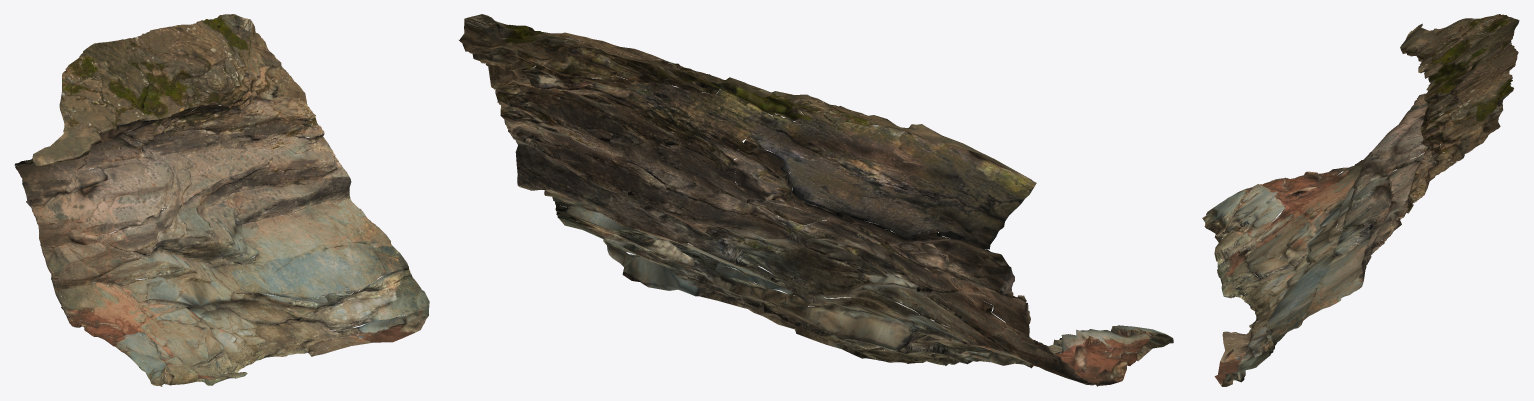
File: rock_face_01.glb
The picture shows the model from 3 angles, left to right: view 1: azimuth 30°, elevation 25°; view 2: azimuth 150°, elevation 25°; view 3: azimuth 270°, elevation 25°; orthographic projection. The views are drawn at different scales.
Parts seen in each view (by area): view 1: rock_face_01; view 2: rock_face_01; view 3: rock_face_01.
Boxes of the visible parts, x1,y1,x2,y2 form: rock_face_01: (14,14,429,386); rock_face_01: (459,14,1173,386); rock_face_01: (1202,14,1519,386).
Size of the model in its own units: 4.95 by 3.57 by 3.83.
1 material, 1 textured.
